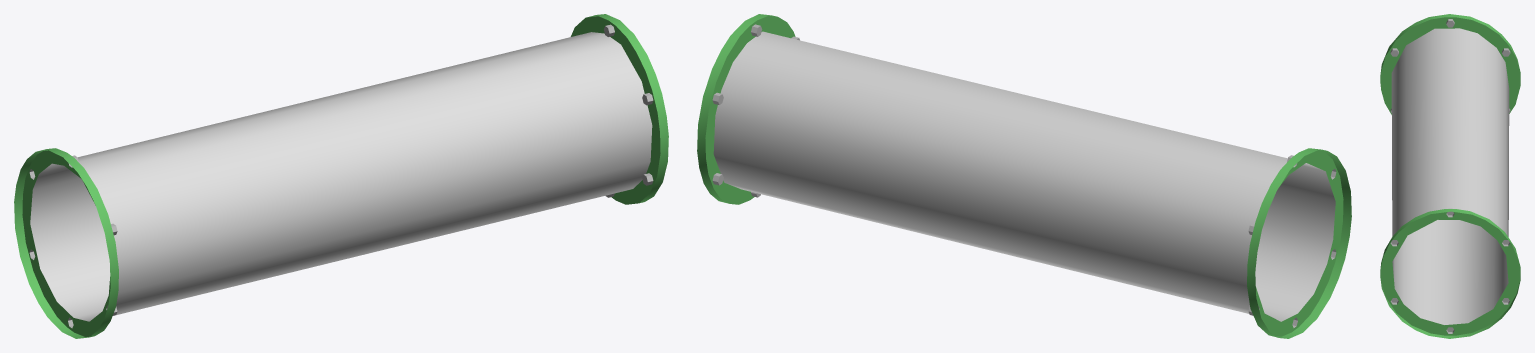
The model's file is Pipe_250mmX1000mm.fbx.
3 renders of one model, left to right at view 1: azimuth 30°, elevation 25°; view 2: azimuth 150°, elevation 25°; view 3: azimuth 270°, elevation 25°, orthographic. The views are drawn at different scales.
Parts seen in each view (by area): view 1: Pipe_250mmX1000mm; view 2: Pipe_250mmX1000mm; view 3: Pipe_250mmX1000mm.
Boxes of the visible parts, x1=… form: Pipe_250mmX1000mm: x1=14, y1=14, x2=668, y2=338; Pipe_250mmX1000mm: x1=697, y1=14, x2=1351, y2=338; Pipe_250mmX1000mm: x1=1380, y1=14, x2=1520, y2=338.
Bounding box in the file's own units: 100 × 30.07 × 29.96.
